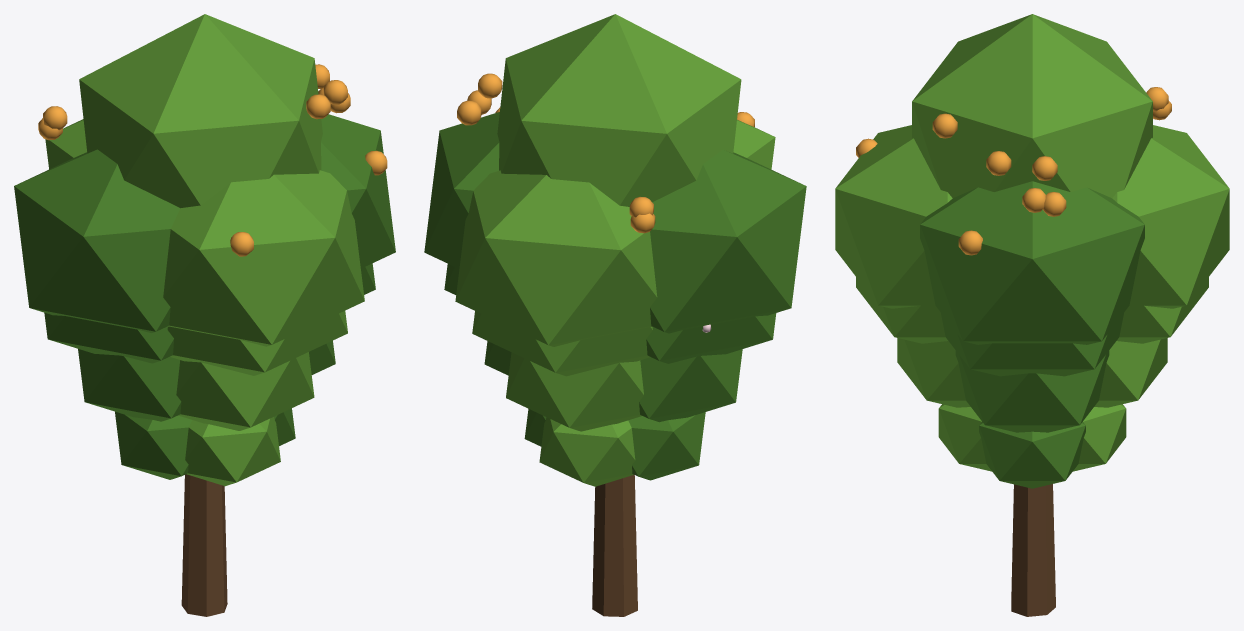
The model's file is Crop_Fruit_Apricot.fbx.
The picture shows the model from 3 angles, left to right: view 1: azimuth 30°, elevation 25°; view 2: azimuth 150°, elevation 25°; view 3: azimuth 270°, elevation 25°; orthographic projection.
Visible parts, largest first — view 1: Crop_Fruit_Apricot__S4, Crop_Fruit_Apricot__S2, Crop_Fruit_Apricot__S1, Crop_Fruit_Apricot__S3; view 2: Crop_Fruit_Apricot__S4, Crop_Fruit_Apricot__S2, Crop_Fruit_Apricot__S1, Crop_Fruit_Apricot__S3; view 3: Crop_Fruit_Apricot__S4, Crop_Fruit_Apricot__S2, Crop_Fruit_Apricot__S1, Crop_Fruit_Apricot__S3.
Boxes of the visible parts, <box> form: Crop_Fruit_Apricot__S4: <box>14,14,395,616</box>; Crop_Fruit_Apricot__S2: <box>78,340,335,430</box>; Crop_Fruit_Apricot__S1: <box>115,408,295,486</box>; Crop_Fruit_Apricot__S3: <box>44,263,375,375</box>; Crop_Fruit_Apricot__S4: <box>424,14,806,616</box>; Crop_Fruit_Apricot__S2: <box>484,341,742,431</box>; Crop_Fruit_Apricot__S1: <box>524,409,705,486</box>; Crop_Fruit_Apricot__S3: <box>444,264,776,376</box>; Crop_Fruit_Apricot__S4: <box>835,14,1229,616</box>; Crop_Fruit_Apricot__S2: <box>897,338,1167,432</box>; Crop_Fruit_Apricot__S1: <box>938,404,1126,488</box>; Crop_Fruit_Apricot__S3: <box>856,277,1208,376</box>.
Bounding box in the file's own units: 0.551 × 0.888 × 0.5353.
